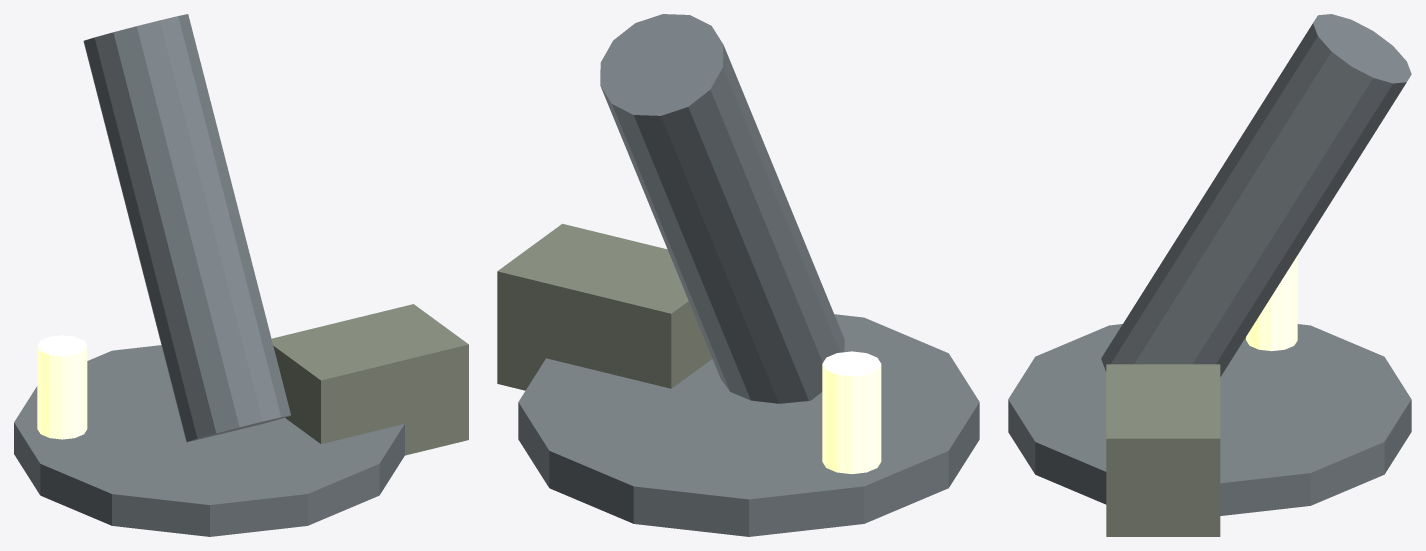
The model's file is mortar.glb.
3 views of the same model, side by side, from view 1: azimuth 30°, elevation 25°; view 2: azimuth 150°, elevation 25°; view 3: azimuth 270°, elevation 25° (orthographic). The views are drawn at different scales.
Parts seen in each view (by area): view 1: MortarTube, Baseplate, AmmoBox, RangeBeacon; view 2: Baseplate, MortarTube, AmmoBox, RangeBeacon; view 3: MortarTube, Baseplate, AmmoBox, RangeBeacon.
Boxes of the visible parts, bbox=[...] form: MortarTube: bbox=[83, 14, 290, 442]; Baseplate: bbox=[14, 345, 404, 536]; AmmoBox: bbox=[271, 304, 468, 455]; RangeBeacon: bbox=[37, 335, 87, 439]; Baseplate: bbox=[518, 314, 979, 536]; MortarTube: bbox=[600, 14, 844, 403]; AmmoBox: bbox=[497, 223, 712, 390]; RangeBeacon: bbox=[822, 351, 881, 474]; MortarTube: bbox=[1101, 14, 1411, 376]; Baseplate: bbox=[1008, 324, 1411, 515]; AmmoBox: bbox=[1106, 364, 1220, 536]; RangeBeacon: bbox=[1246, 255, 1297, 351].
Size of the model in its own units: 1.74 by 1.75 by 1.56.
